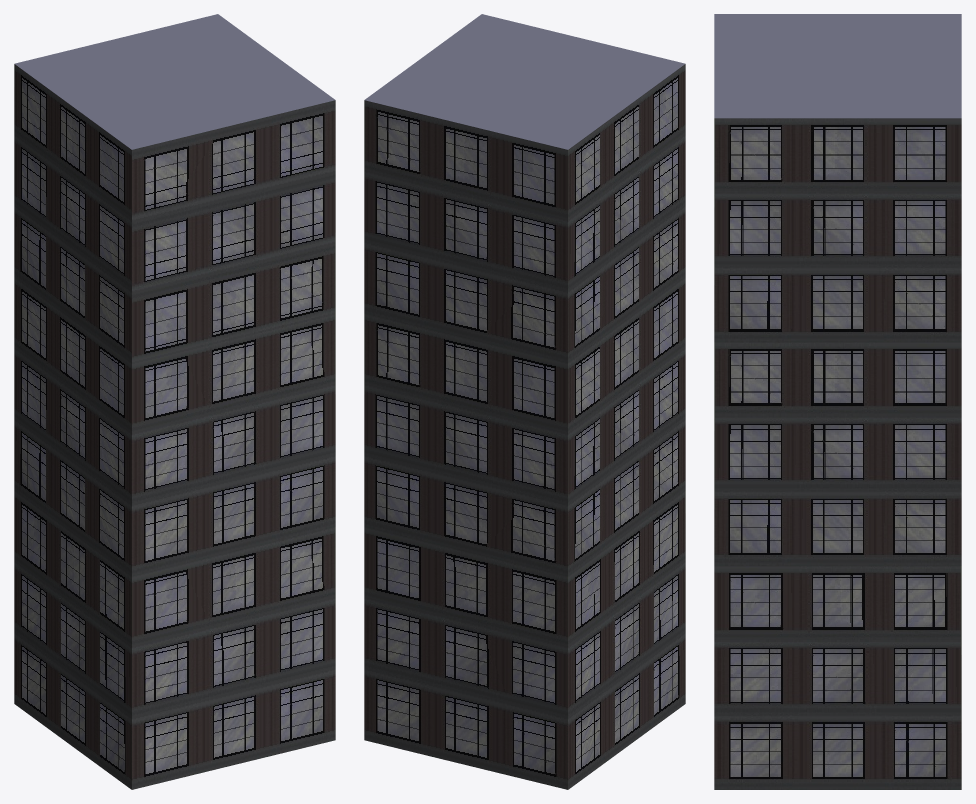
The model's file is 3story_1.glb.
3 renders of one model, left to right at view 1: azimuth 30°, elevation 25°; view 2: azimuth 150°, elevation 25°; view 3: azimuth 270°, elevation 25°, orthographic. The views are drawn at different scales.
Visible parts, largest first — view 1: skyscraper_three_1; view 2: skyscraper_three_1; view 3: skyscraper_three_1.
Boxes of the visible parts, x1,y1,x2,y2 form: skyscraper_three_1: (14,14,335,789); skyscraper_three_1: (364,14,685,789); skyscraper_three_1: (714,14,961,789).
Size of the model in its own units: 20 by 60 by 20.
1 material, 1 textured.
